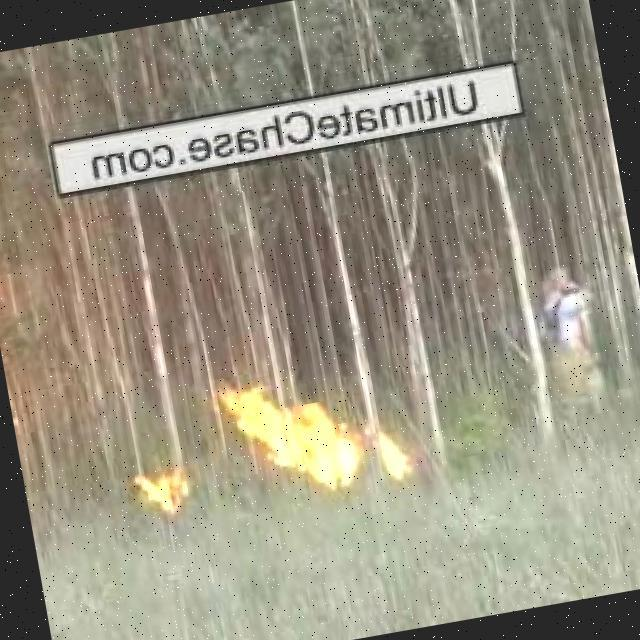Fire: (220, 360, 362, 510), (360, 419, 419, 497), (128, 468, 196, 524)
